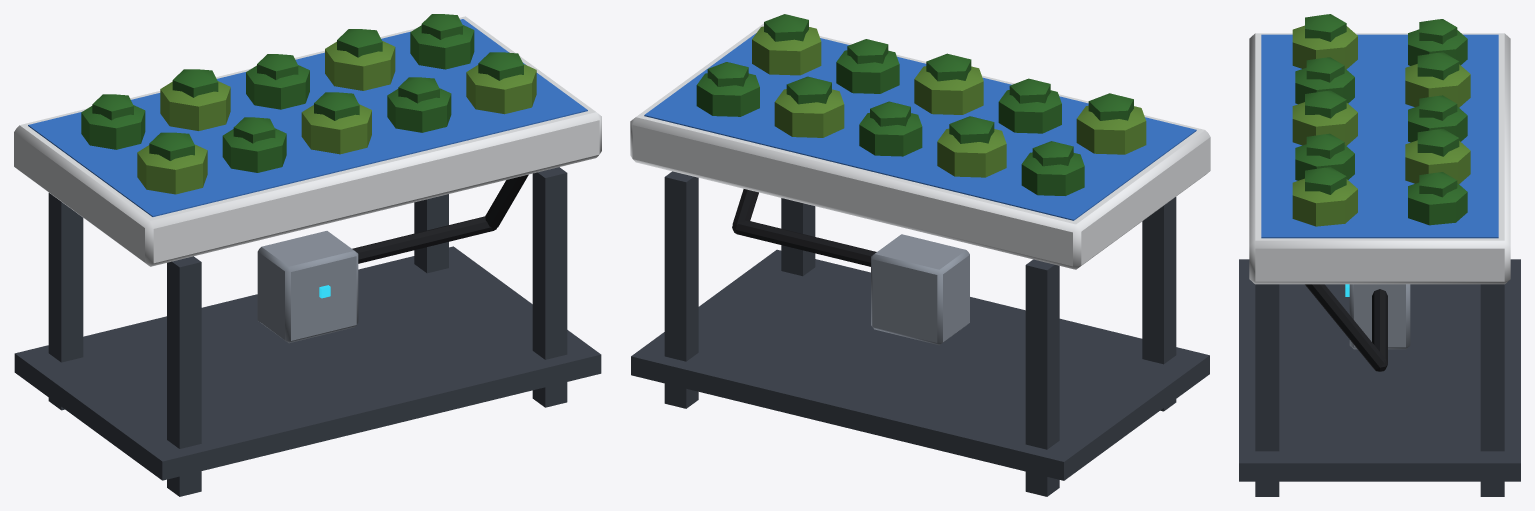
The model's file is planter_lettuce_trough.glb.
The picture shows the model from 3 angles, left to right: view 1: azimuth 30°, elevation 25°; view 2: azimuth 150°, elevation 25°; view 3: azimuth 270°, elevation 25°; orthographic projection. The views are drawn at different scales.
Visible parts, largest first — view 1: planter_lettuce_trough; view 2: planter_lettuce_trough; view 3: planter_lettuce_trough.
Part boxes in pixels (x1=…): planter_lettuce_trough: x1=14, y1=14, x2=601, y2=496; planter_lettuce_trough: x1=630, y1=14, x2=1210, y2=496; planter_lettuce_trough: x1=1239, y1=14, x2=1520, y2=496.
Bounding box in the file's own units: 1.25 × 0.8652 × 0.7.
